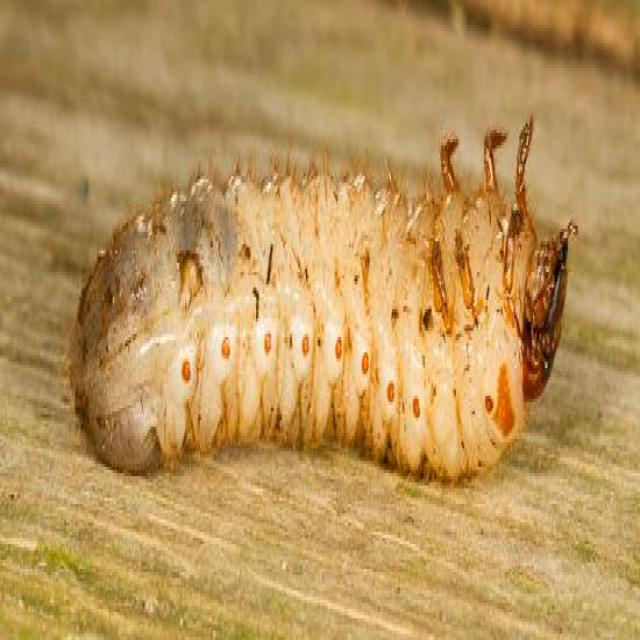Grub-Adult-: (68, 109, 584, 532)
